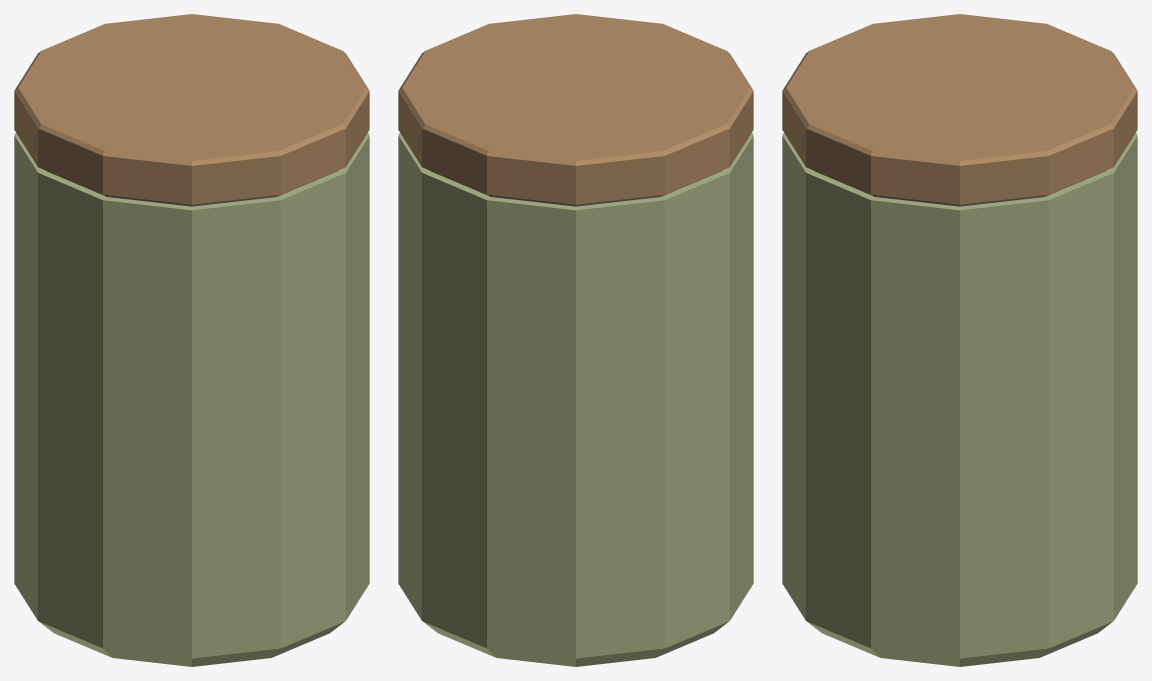
File: KitchenProps_18.fbx
3 views of the same model, side by side, from view 1: azimuth 30°, elevation 25°; view 2: azimuth 150°, elevation 25°; view 3: azimuth 270°, elevation 25° (orthographic).
Parts seen in each view (by area): view 1: KitchenProps_18; view 2: KitchenProps_18; view 3: KitchenProps_18.
Part boxes in pixels (x1,y1,x2,y2): KitchenProps_18: (14,14,369,666); KitchenProps_18: (398,14,753,666); KitchenProps_18: (782,14,1137,666).
Size of the model in its own units: 9.62 by 15.3 by 9.62.
